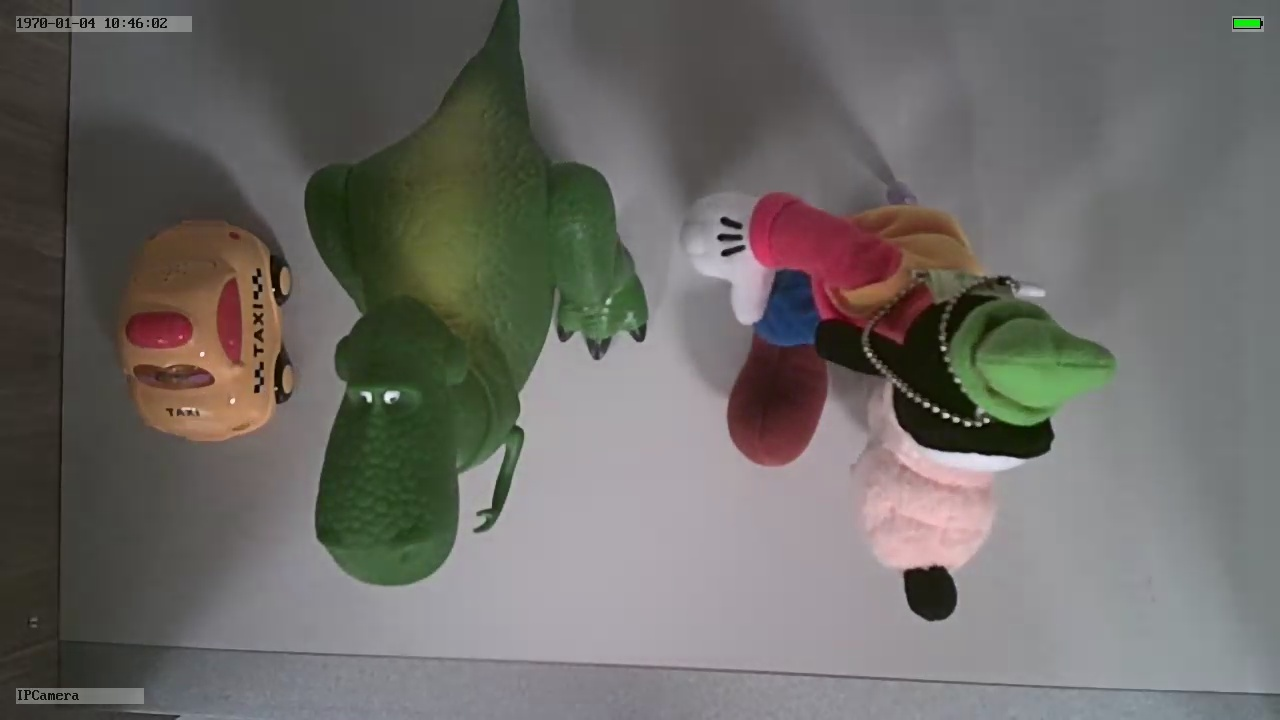car: (114, 213, 294, 441)
goofy: (664, 179, 1122, 633)
rex: (303, 71, 647, 592)
